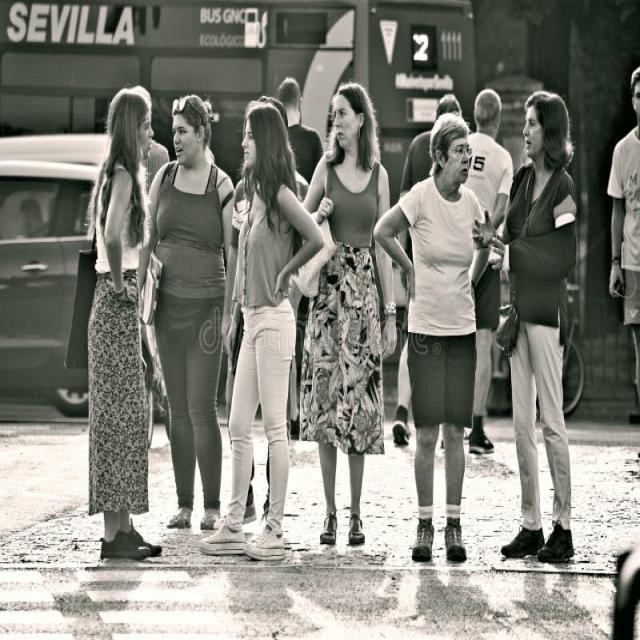human: (245, 98, 307, 275)
loitering: (200, 101, 322, 554), (374, 112, 494, 560), (296, 84, 393, 542), (482, 94, 576, 560), (138, 99, 235, 534), (84, 87, 166, 565), (458, 90, 513, 450), (606, 68, 639, 420), (138, 120, 174, 437), (401, 96, 460, 200), (277, 78, 324, 188), (134, 89, 172, 200)
